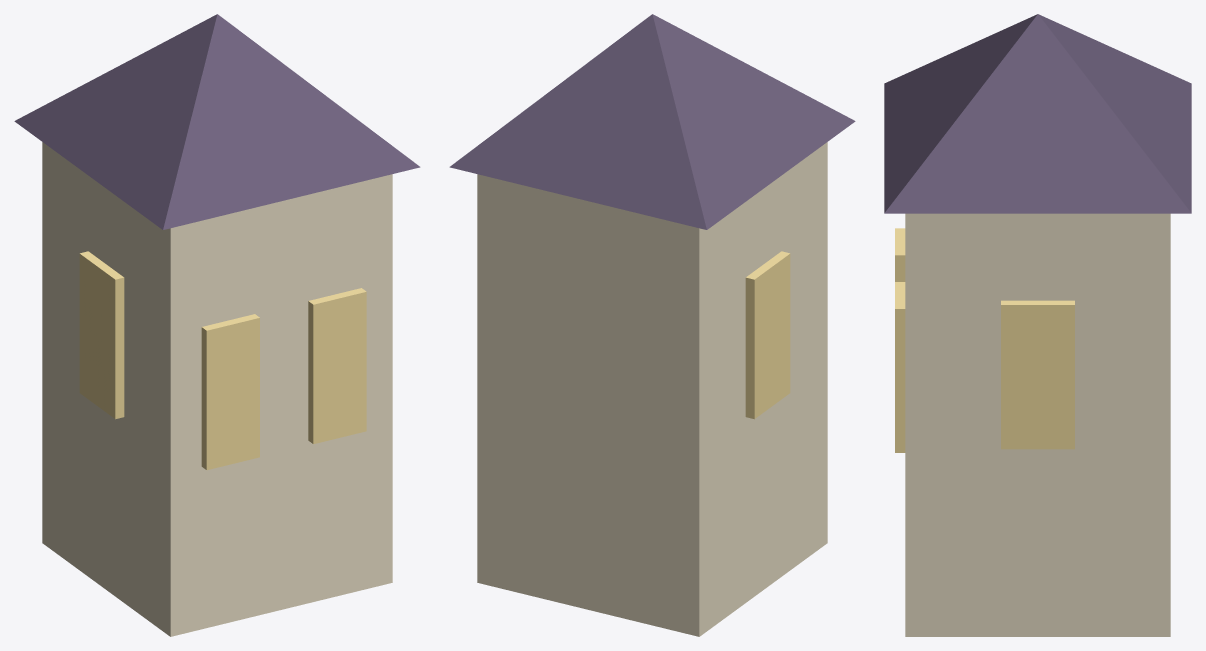
Rendered from shared-tower-block.glb.
The picture shows the model from 3 angles, left to right: view 1: azimuth 30°, elevation 25°; view 2: azimuth 150°, elevation 25°; view 3: azimuth 270°, elevation 25°; orthographic projection. The views are drawn at different scales.
Parts seen in each view (by area): view 1: shared-tower-block; view 2: shared-tower-block; view 3: shared-tower-block.
Boxes of the visible parts, left/top/right/bottom form: shared-tower-block: left=14, top=14, right=420, bottom=636; shared-tower-block: left=449, top=14, right=855, bottom=636; shared-tower-block: left=884, top=14, right=1191, bottom=636.
Size of the model in its own units: 0.58 by 1.18 by 0.58.
